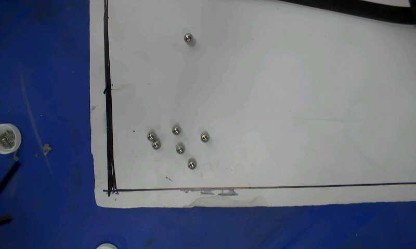ironball: (183, 31, 193, 44), (186, 158, 196, 170), (199, 131, 209, 142), (175, 142, 184, 154), (171, 124, 180, 135), (151, 139, 160, 149), (146, 131, 154, 141)
